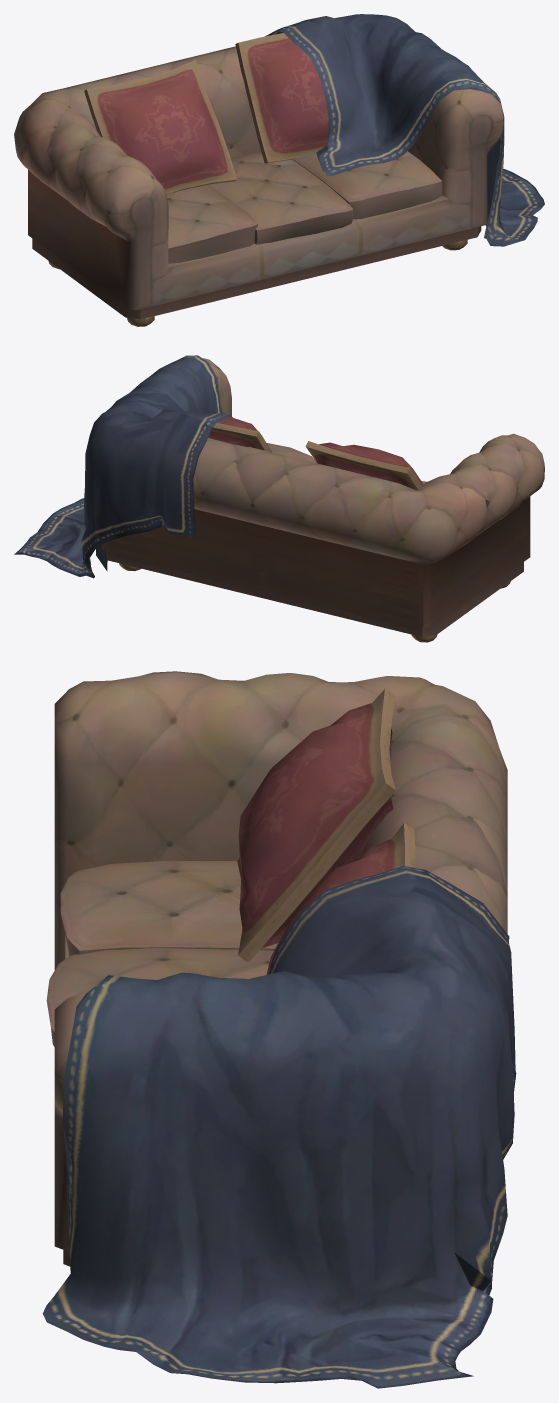
Rendered from Homeworld_Interior_Md_Chair_Sofa_01_Vo.fbx.
3 views of the same model, one above another, from view 1: azimuth 30°, elevation 25°; view 2: azimuth 150°, elevation 25°; view 3: azimuth 270°, elevation 25° (orthographic). The views are drawn at different scales.
Visible parts, largest first — view 1: Homeworld_Interior_Md_Chair_Sofa_01_Vo; view 2: Homeworld_Interior_Md_Chair_Sofa_01_Vo; view 3: Homeworld_Interior_Md_Chair_Sofa_01_Vo.
Part boxes in pixels (left/top/right/bottom): Homeworld_Interior_Md_Chair_Sofa_01_Vo: left=14, top=14, right=544, bottom=326; Homeworld_Interior_Md_Chair_Sofa_01_Vo: left=14, top=355, right=544, bottom=642; Homeworld_Interior_Md_Chair_Sofa_01_Vo: left=42, top=671, right=516, bottom=1388.
Bounding box in the file's own units: 2.95 × 1.07 × 1.36.
